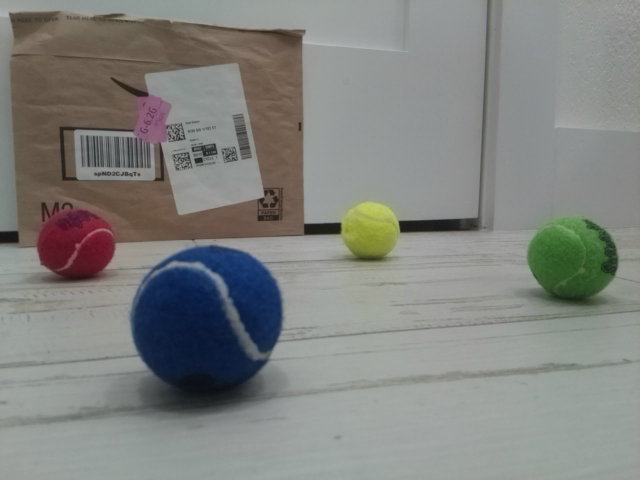blue-ball: (129, 244, 285, 396)
green-ball: (526, 215, 620, 301)
red-ball: (36, 208, 116, 279)
yellow-ball: (339, 202, 401, 261)
